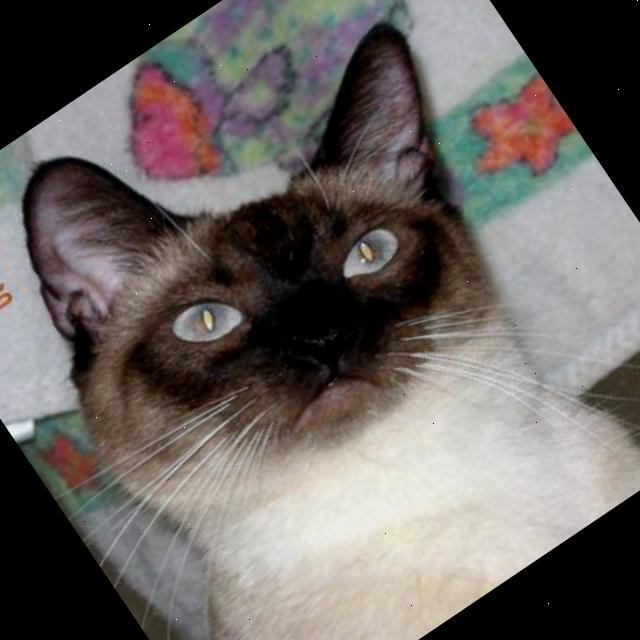cat-eye-normal: (150, 267, 268, 372), (312, 202, 426, 304)
